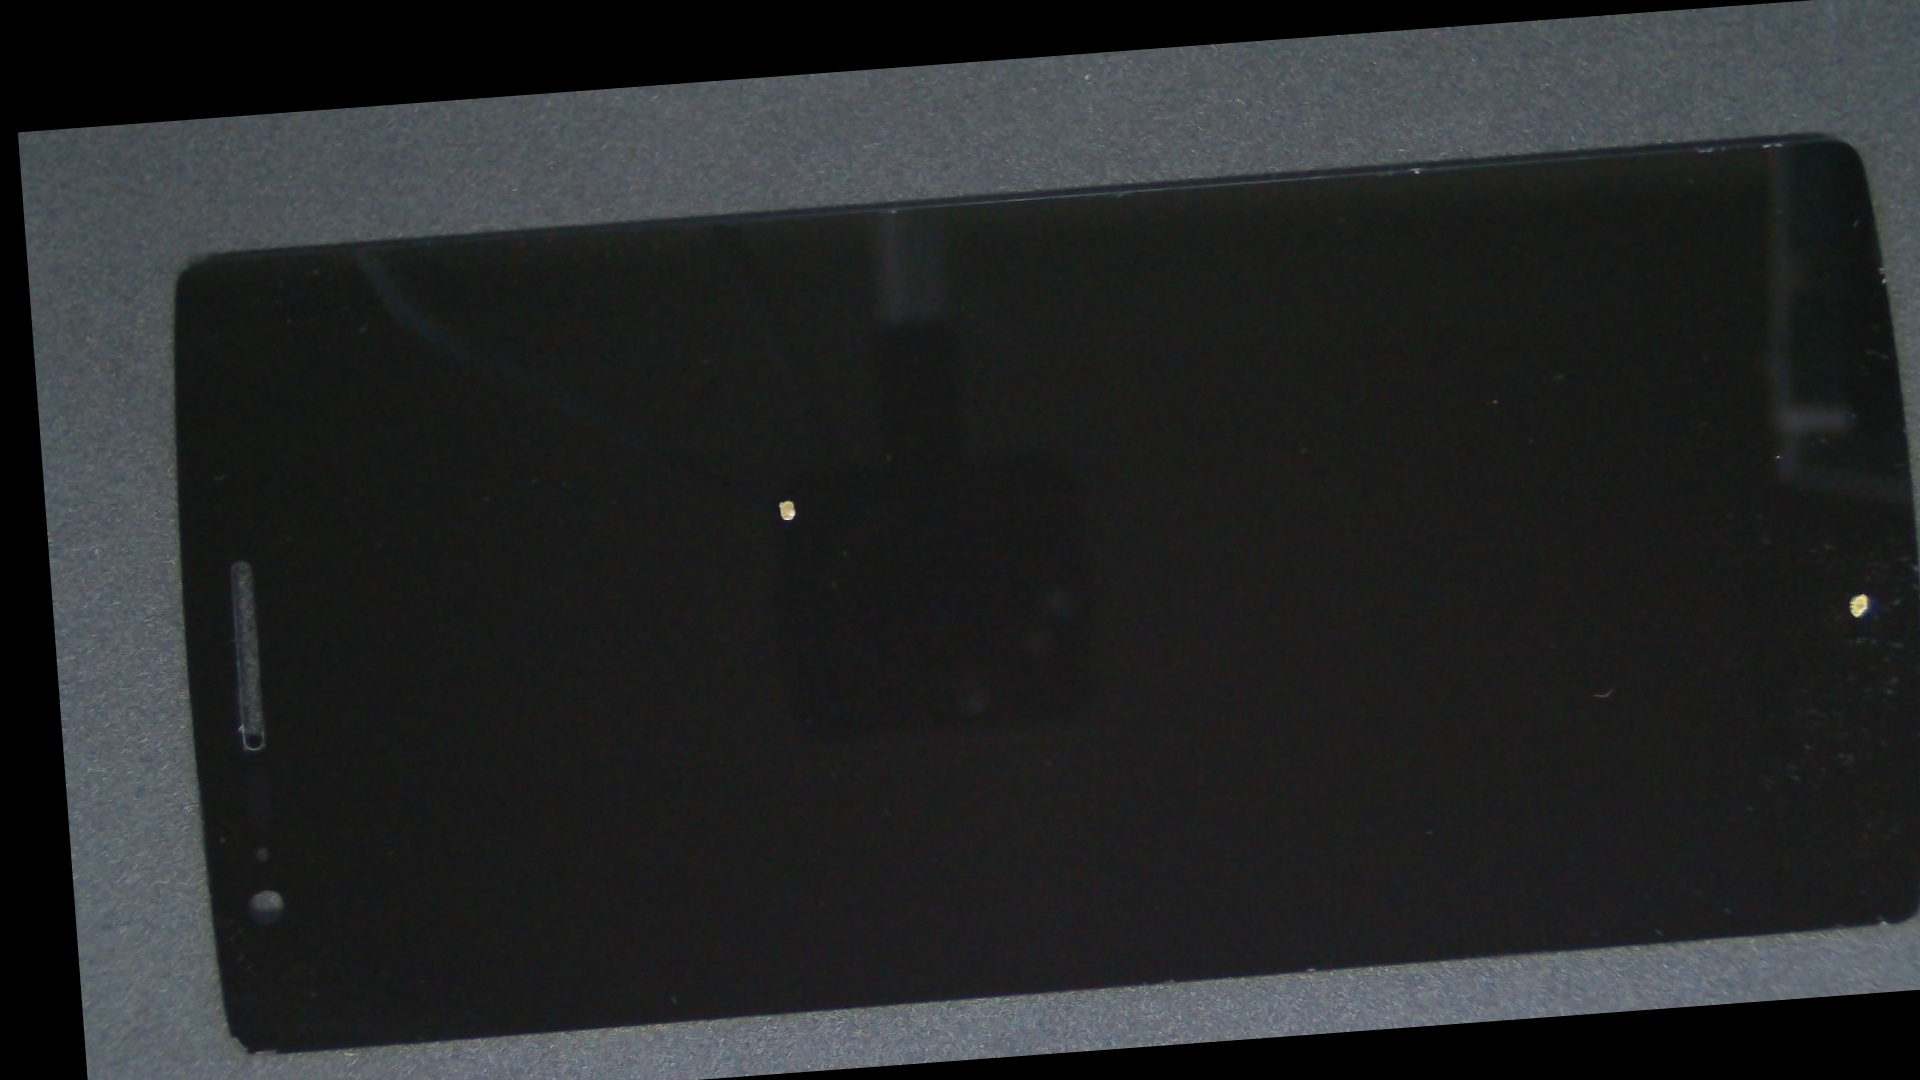oil: (942, 286, 1920, 952), (405, 260, 1178, 737)
